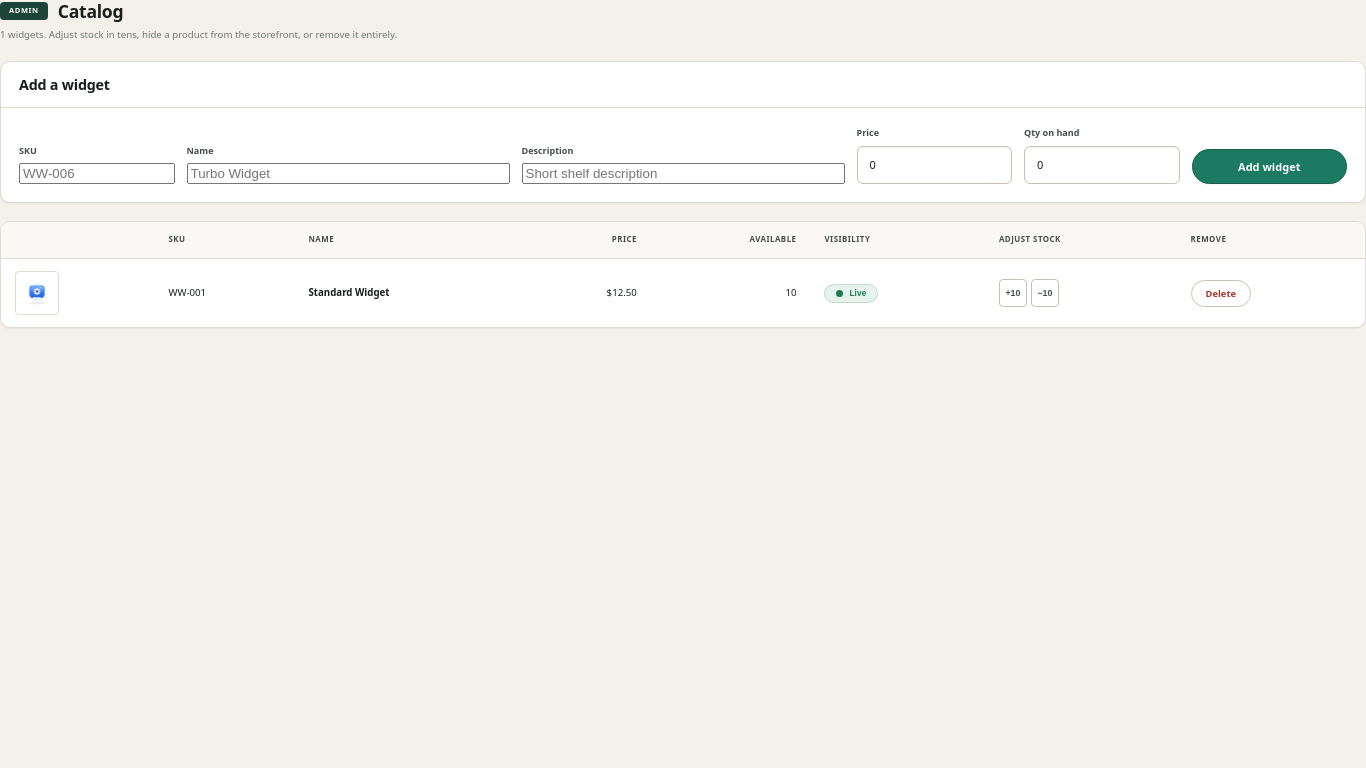
Test: AdminWidgetsPage › confirming deletes and reports that it was removed outright
Step 1. Click the button with aria-label "Delete Standard Widget" → (1221, 293), box [1191,280,1251,307]
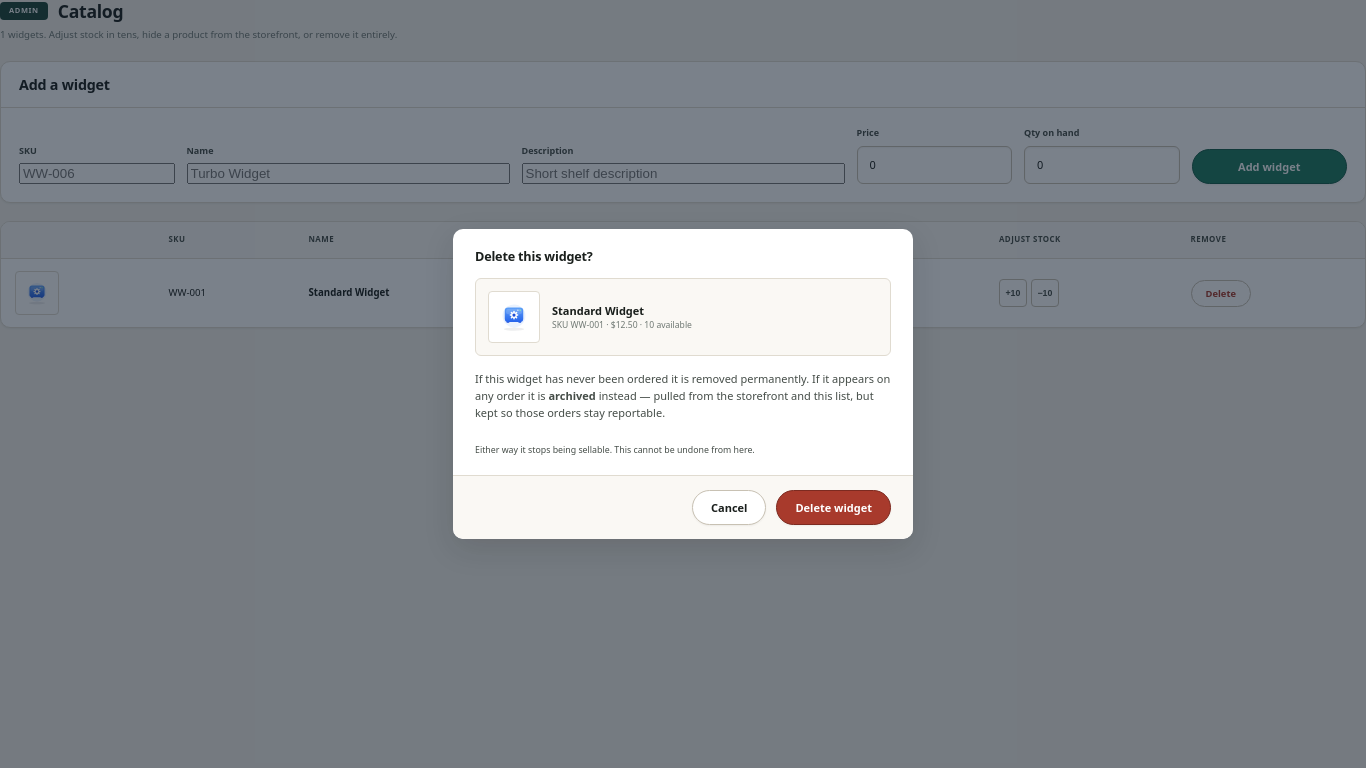
Step 2. Click the button "Delete widget" → (834, 508), box [776,490,891,525]
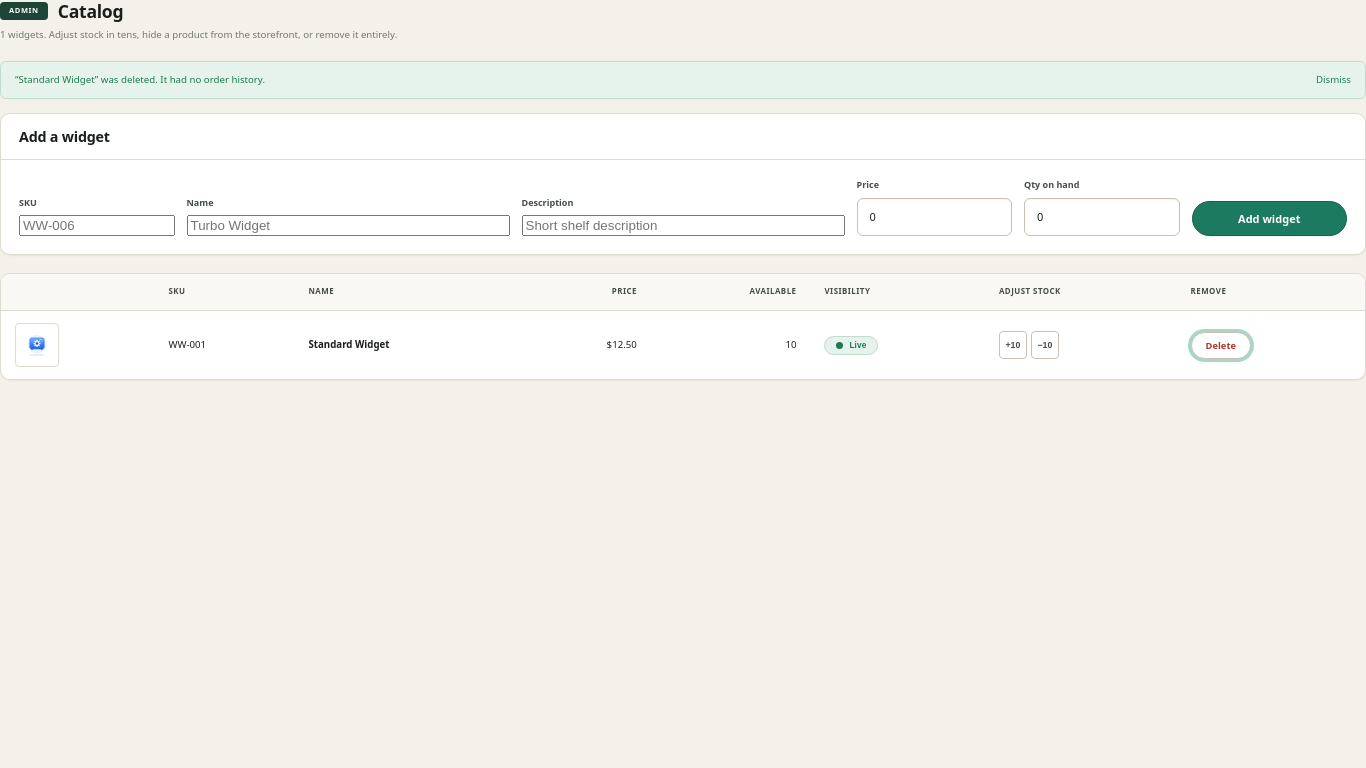
Check: the text "no order history" is shown, box [15,72,265,86]
